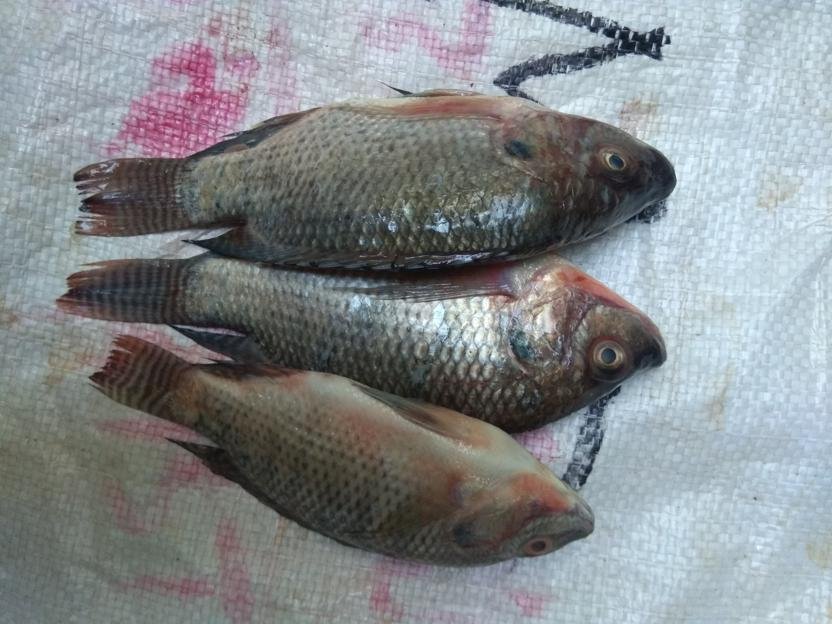Fish head: (501, 107, 678, 248), (514, 257, 667, 420), (455, 458, 597, 568)
Fish tail: (84, 333, 197, 428), (73, 156, 193, 237), (56, 257, 196, 324)
